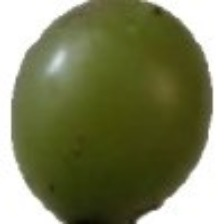grapes: (17, 27, 202, 174)
